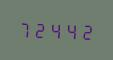four: (48, 19, 62, 40), (63, 20, 77, 40)
seven: (18, 18, 32, 39)
two: (78, 20, 92, 41), (33, 19, 47, 39)
